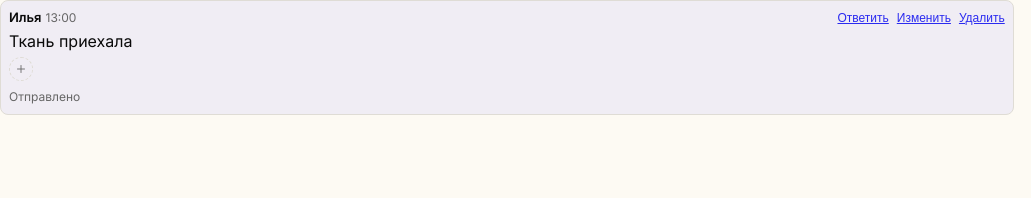
правка на месте › отмена возвращает прежний текст и ничего не шлёт
The image size is (1031, 198).
Step 1. Click the button "Изменить" → coordinates (924, 18), box x1=897 y1=11 x2=951 y2=25
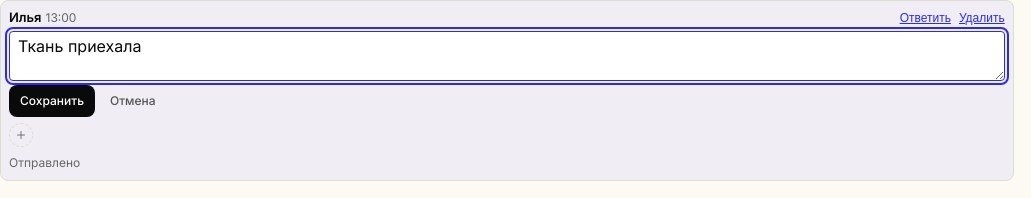
Step 2. Replace the text in the text box named "Текст сообщения" with "другое" → coordinates (507, 56), box x1=9 y1=31 x2=1005 y2=81
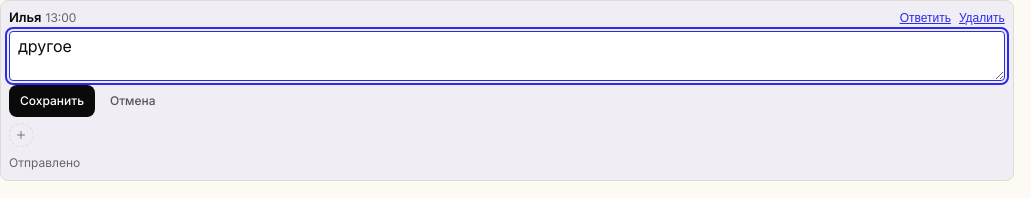
Step 3. Click the button "Отмена" → coordinates (133, 101), box x1=99 y1=85 x2=167 y2=117
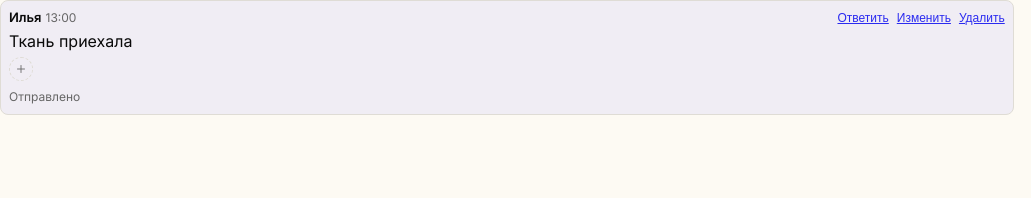
Check: the text "Ткань приехала" is shown, box x1=9 y1=31 x2=132 y2=51
